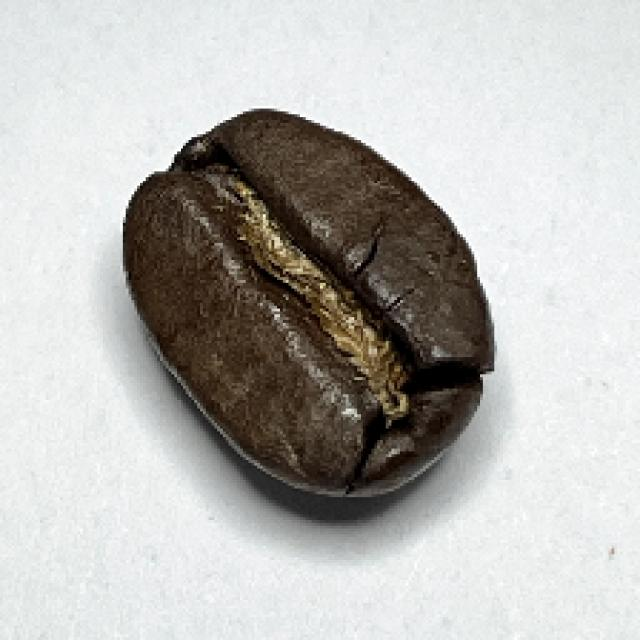bean: (119, 105, 496, 501)
